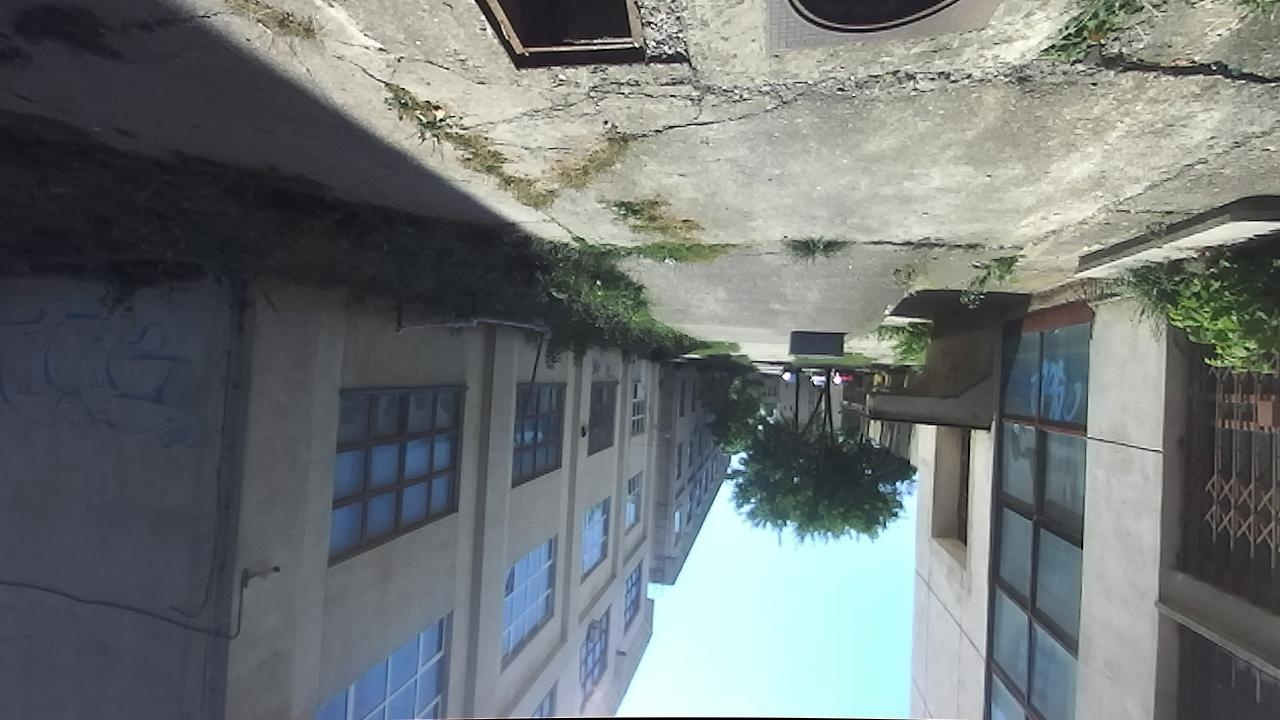drain: (473, 0, 647, 78), (769, 0, 966, 40)
